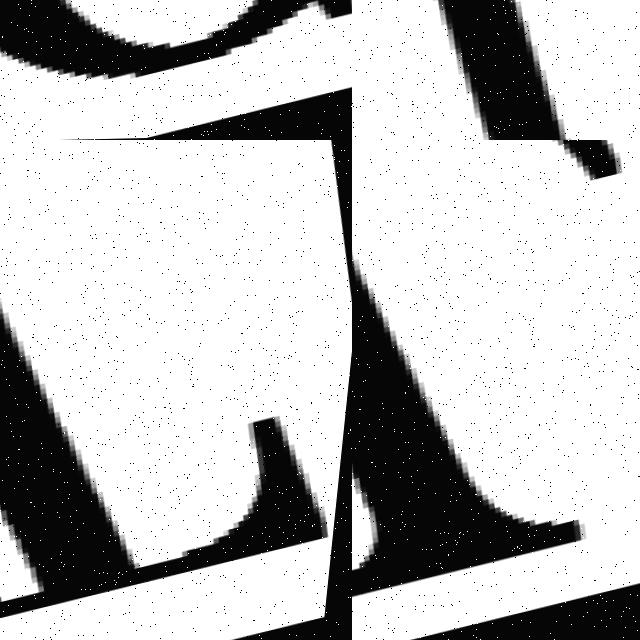G: (0, 0, 352, 140)
L: (352, 140, 640, 640)
T: (0, 140, 352, 640)
Y: (352, 0, 640, 140)
